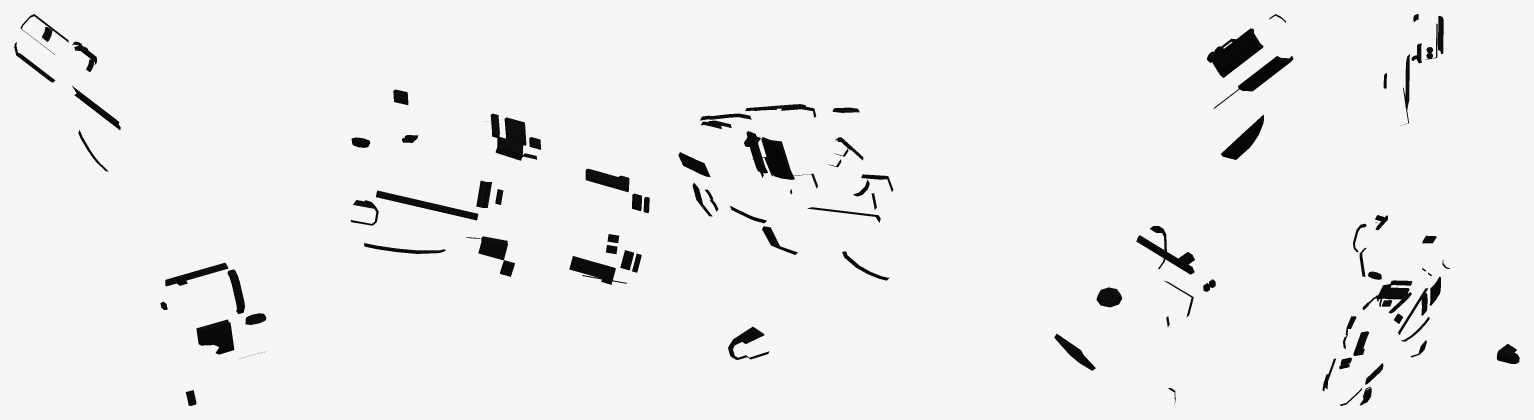
File: prop_static_ama_shipwreck_02_03.glb
3 views of the same model, side by side, from view 1: azimuth 30°, elevation 25°; view 2: azimuth 150°, elevation 25°; view 3: azimuth 270°, elevation 25° (orthographic). The views are drawn at different scales.
Parts seen in each view (by area): view 1: ama_ship_wreck_02_03_LOD0; view 2: ama_ship_wreck_02_03_LOD0; view 3: ama_ship_wreck_02_03_LOD0.
Part boxes in pixels (bbox=[...]): ama_ship_wreck_02_03_LOD0: bbox=[14, 14, 649, 405]; ama_ship_wreck_02_03_LOD0: bbox=[678, 14, 1293, 403]; ama_ship_wreck_02_03_LOD0: bbox=[1322, 14, 1519, 405].
Size of what is drawn, in the model's own units: 8.83 by 5.66 by 3.97.
2 materials, 2 textured.
